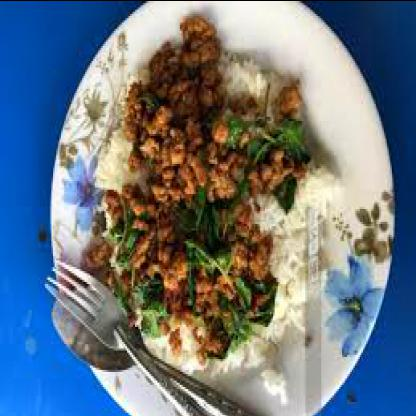Basil Rice: (61, 28, 365, 399)
